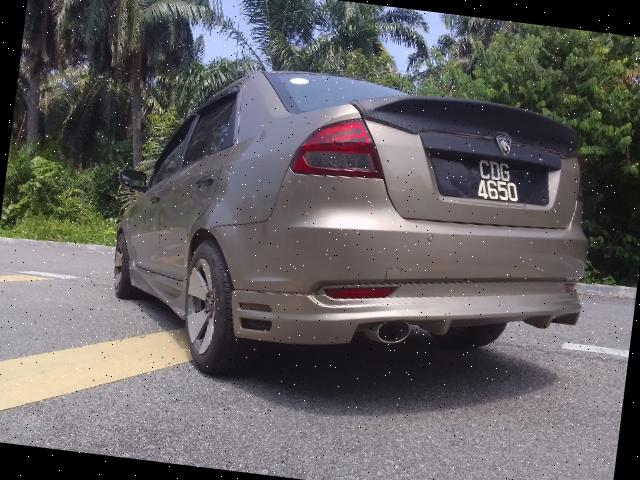License_Plate: (434, 144, 548, 210)
car: (97, 40, 612, 417)
